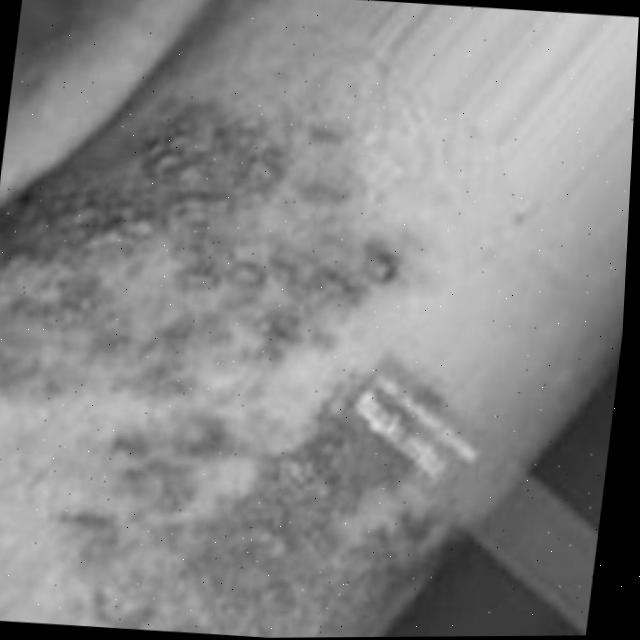Shingles: (0, 113, 391, 389), (100, 439, 391, 639)
